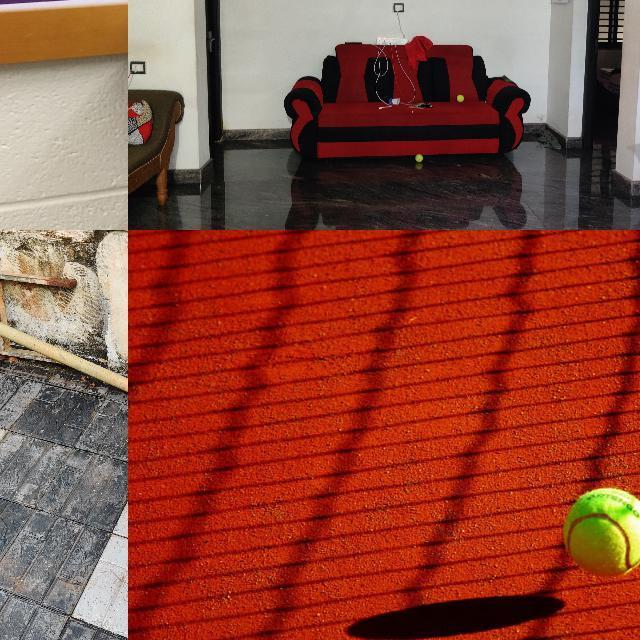tennis-ball: (563, 487, 639, 577), (415, 154, 423, 162), (456, 95, 464, 102)
